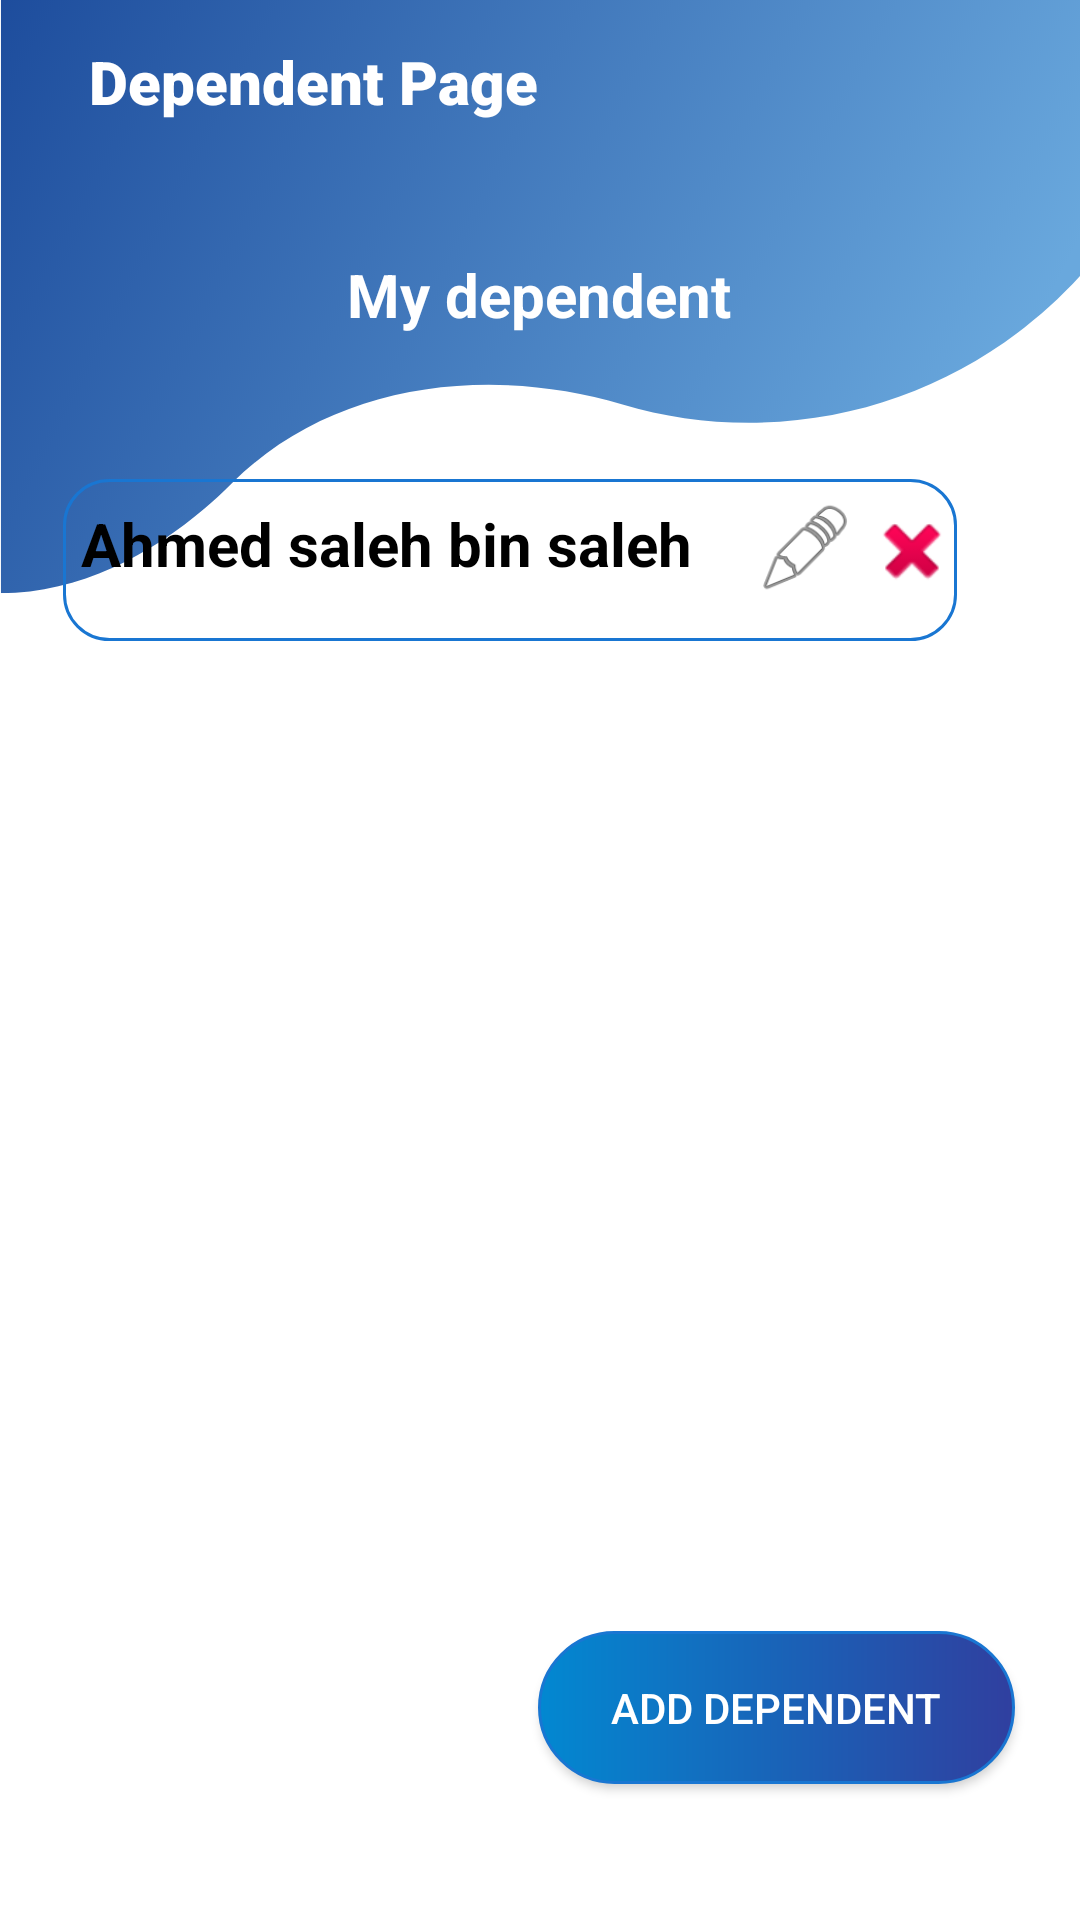

Locate icon controls on the screen. Image size 1080*1920, boxes as (x1, y1, x2, y2).
delete: (883, 524, 941, 579)
edit: (763, 505, 847, 589)
